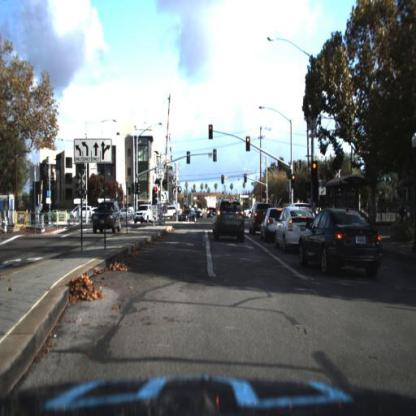car: (301, 209, 389, 281), (273, 204, 313, 250), (213, 201, 247, 244), (276, 207, 300, 256), (90, 200, 121, 232), (248, 199, 268, 239), (262, 206, 280, 246), (261, 207, 277, 243), (135, 203, 154, 226), (134, 206, 155, 226), (183, 206, 202, 227), (250, 203, 261, 237), (70, 205, 94, 219), (181, 207, 197, 223), (122, 205, 134, 222)
pedestrian: (411, 197, 416, 230)
trafficLight-Red: (151, 184, 161, 208), (312, 160, 322, 184), (154, 184, 162, 205), (220, 167, 228, 188), (290, 174, 298, 195), (245, 132, 253, 152), (245, 137, 253, 154), (208, 123, 216, 137), (221, 172, 228, 188), (311, 158, 319, 172), (291, 172, 297, 189), (242, 172, 248, 188), (244, 168, 250, 184), (265, 187, 269, 199)
trafficLight-RedLeft: (209, 124, 214, 140)
